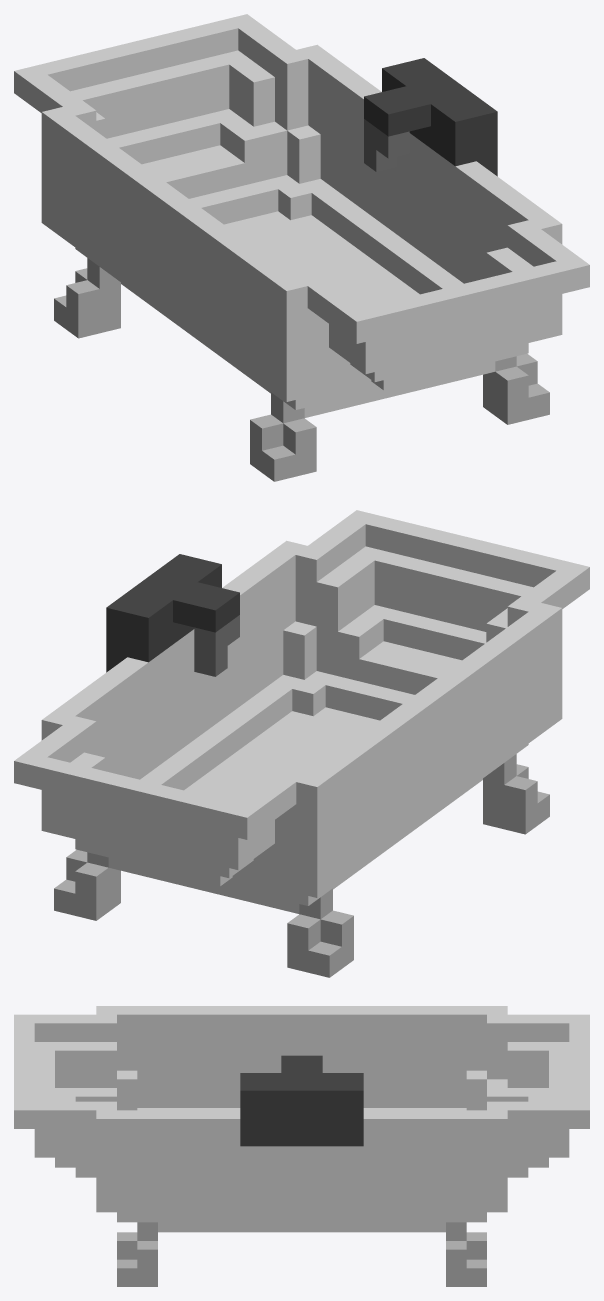
The model's file is baignoire.obj.
3 renders of one model, top to bottom at view 1: azimuth 30°, elevation 25°; view 2: azimuth 150°, elevation 25°; view 3: azimuth 270°, elevation 25°, orthographic. The views are drawn at different scales.
Visible parts, largest first — view 1: baignoire; view 2: baignoire; view 3: baignoire.
Boxes of the visible parts, x1,y1,x2,y2 form: baignoire: (14,14,589,481); baignoire: (14,510,589,977); baignoire: (14,1006,589,1286).
Bounding box in the file's own units: 14 × 11 × 28.
Materials: 1 (1 with a texture image).
